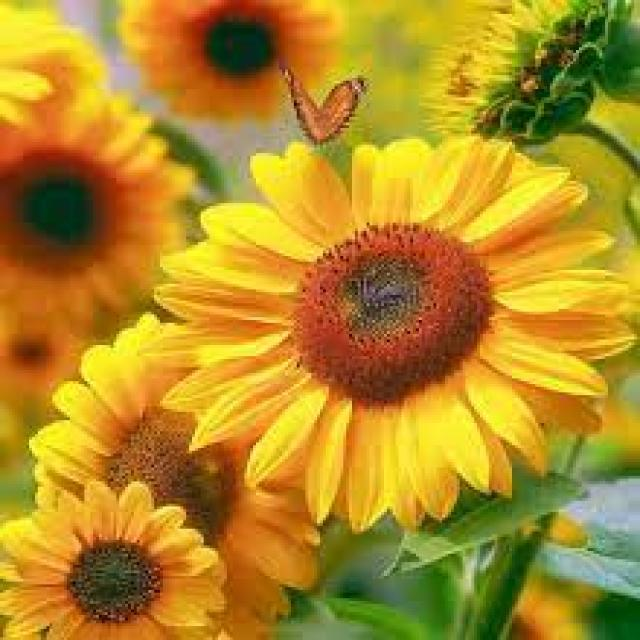sunflower: (126, 119, 640, 541), (24, 298, 323, 640), (0, 78, 204, 336), (0, 474, 227, 640), (106, 2, 359, 129), (0, 0, 91, 139), (465, 566, 604, 640), (0, 313, 74, 401)
